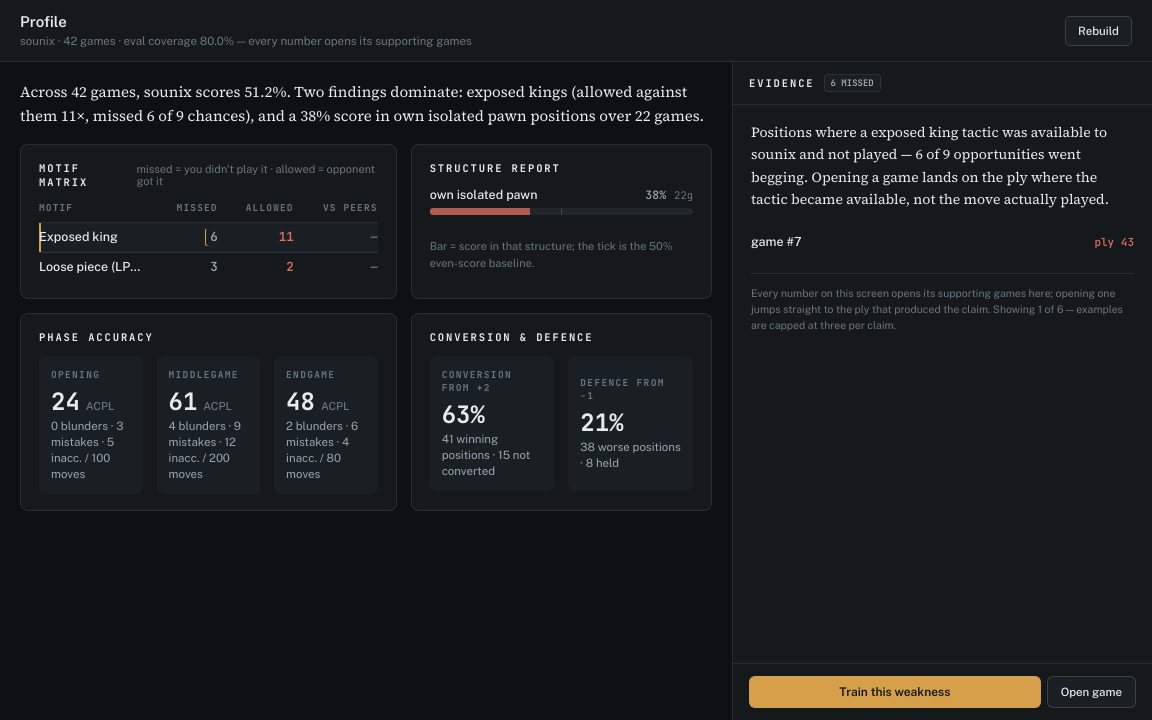
Scenario: Profile — every number is a control › clicking a structure bar retargets the aside
expect the text "6 MISSED" is shown: met, box [824,74,881,92]
Click the text "own isolated pawn".
click(484, 194)  # box [430,187,538,202]
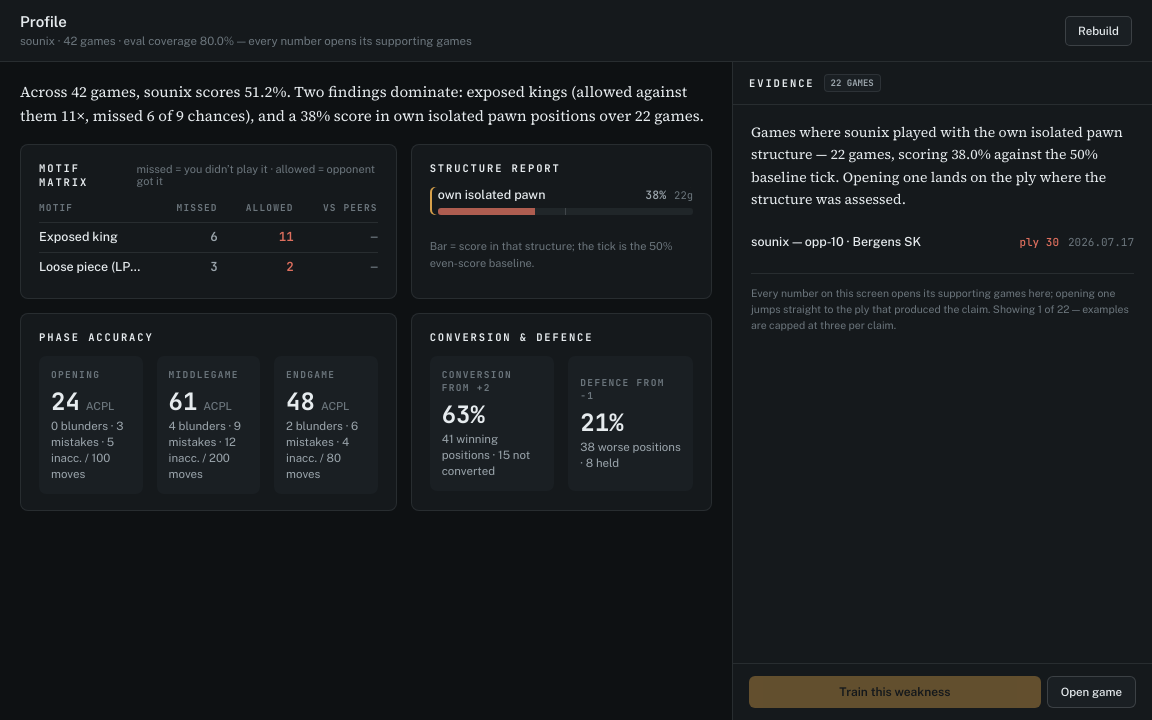
expect the text "22 GAMES" is shown: met, box [824,74,881,92]
